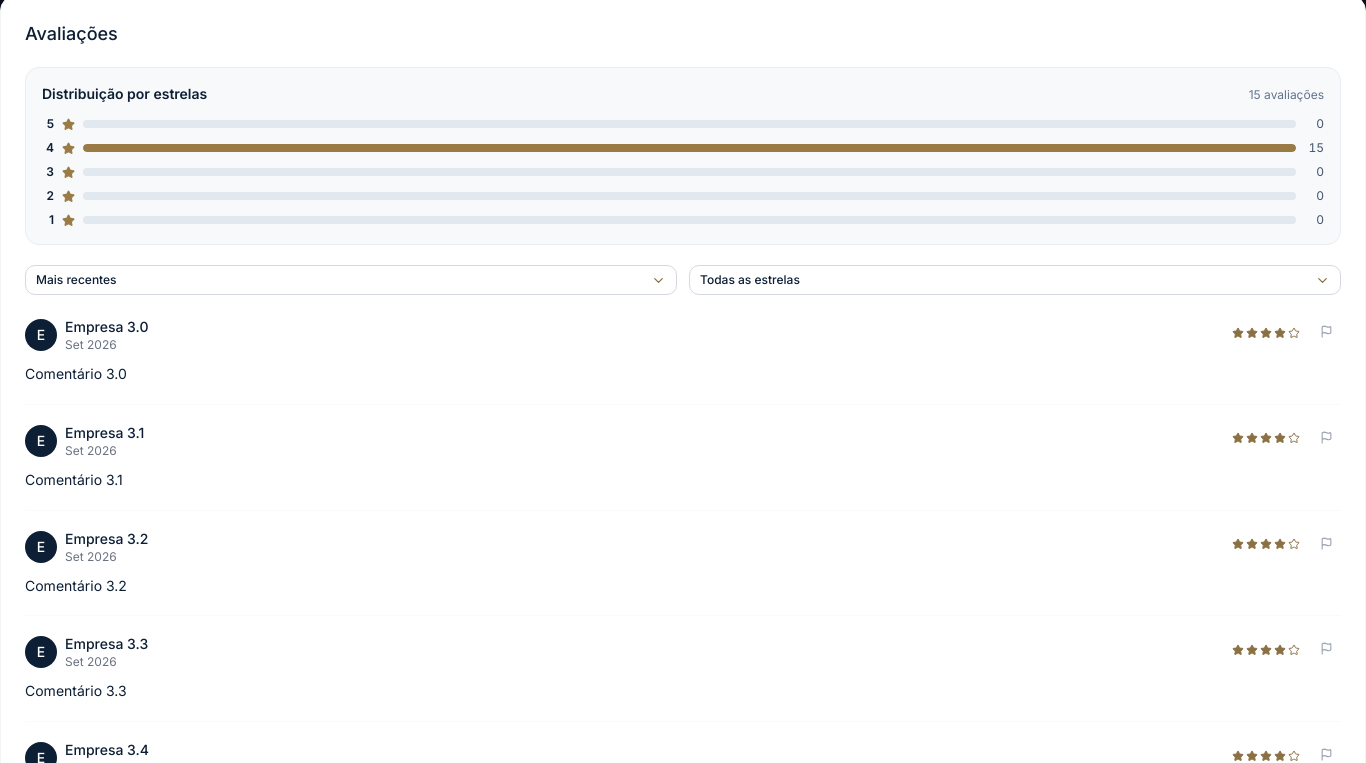
Scenario: Avaliações do perfil público: filtros e página no endereço › mudar um filtro escreve-o no endereço e volta à página 1
Expected: the text "Empresa 3.0" is shown, 65,317 -> 148,337
Click the dropdown named "Ordenar avaliações" at [76, 280], box 25,265 -> 677,295
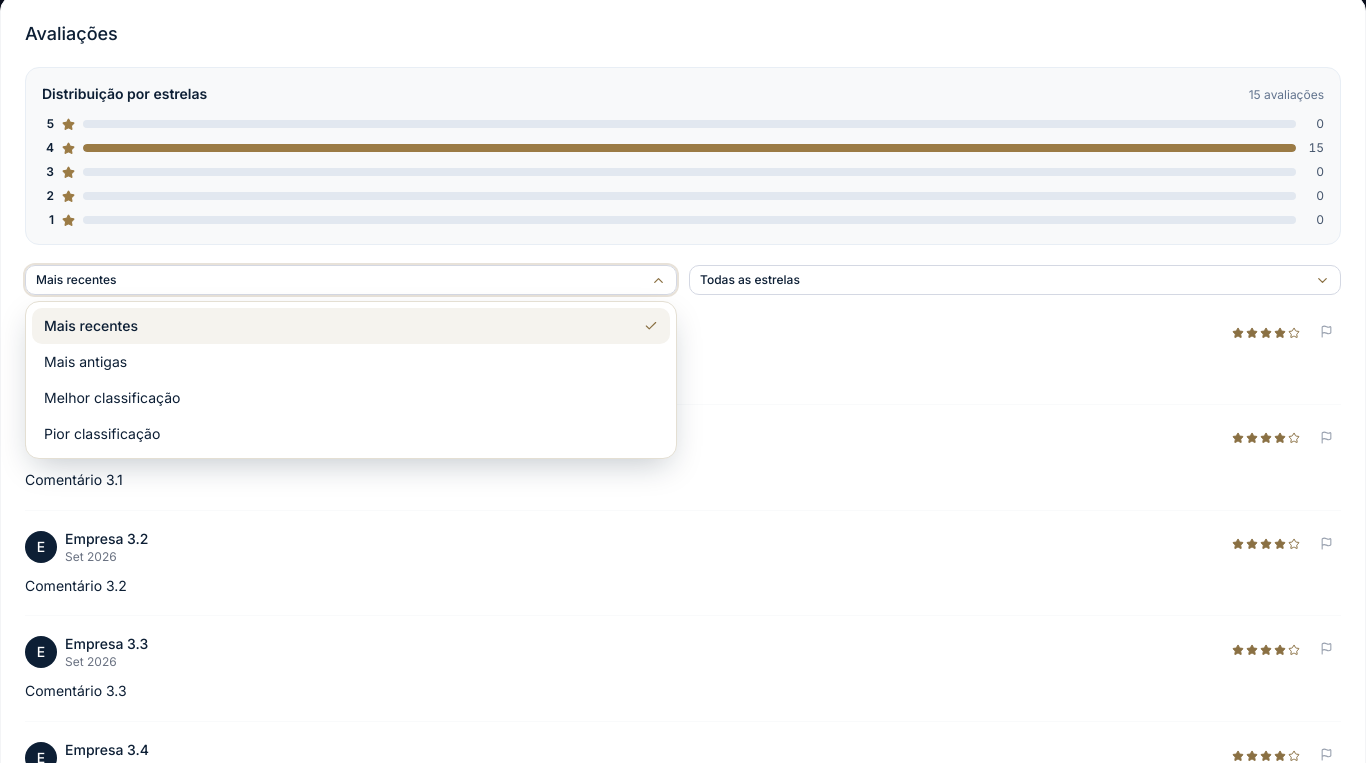
Click the option "Mais antigas" at [86, 362], box 44,353 -> 127,370
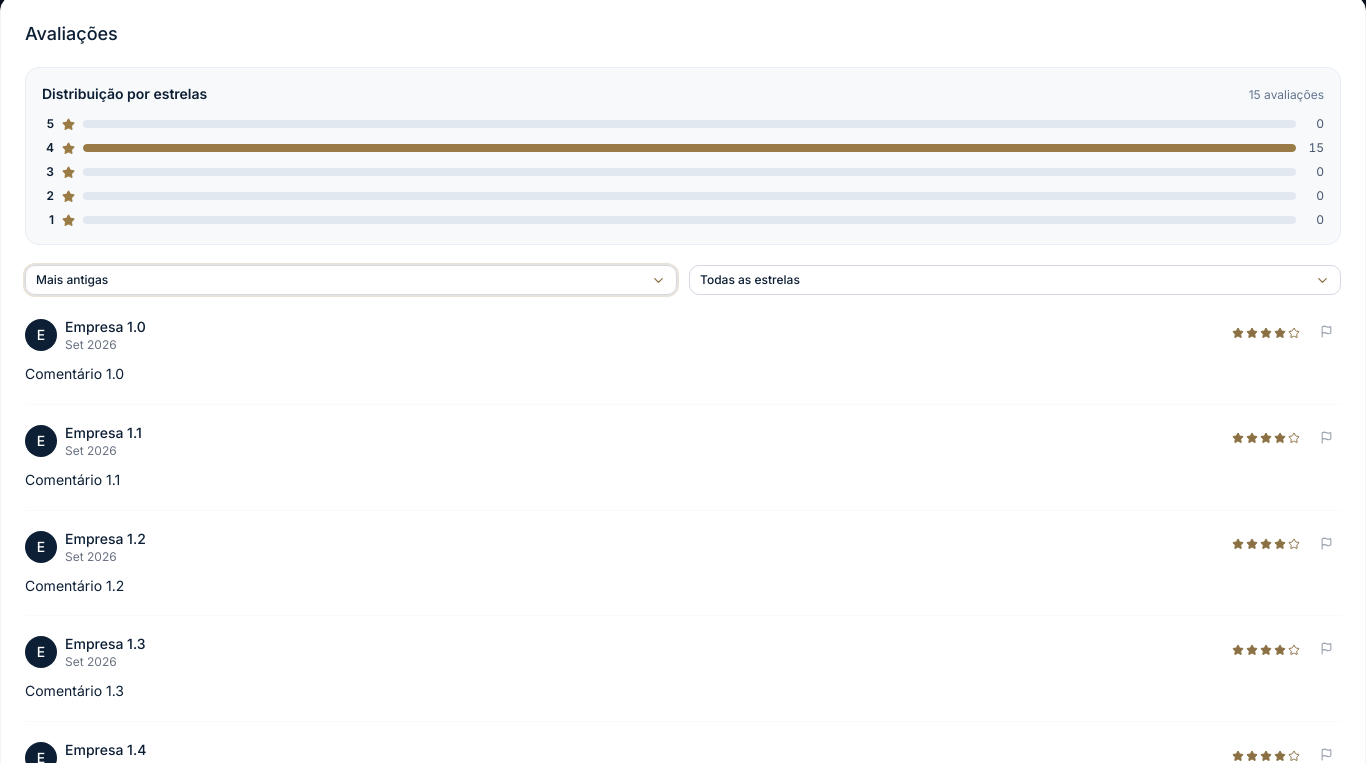
Click the dropdown named "Filtrar por estrelas" at [750, 280], box 689,265 -> 1341,295
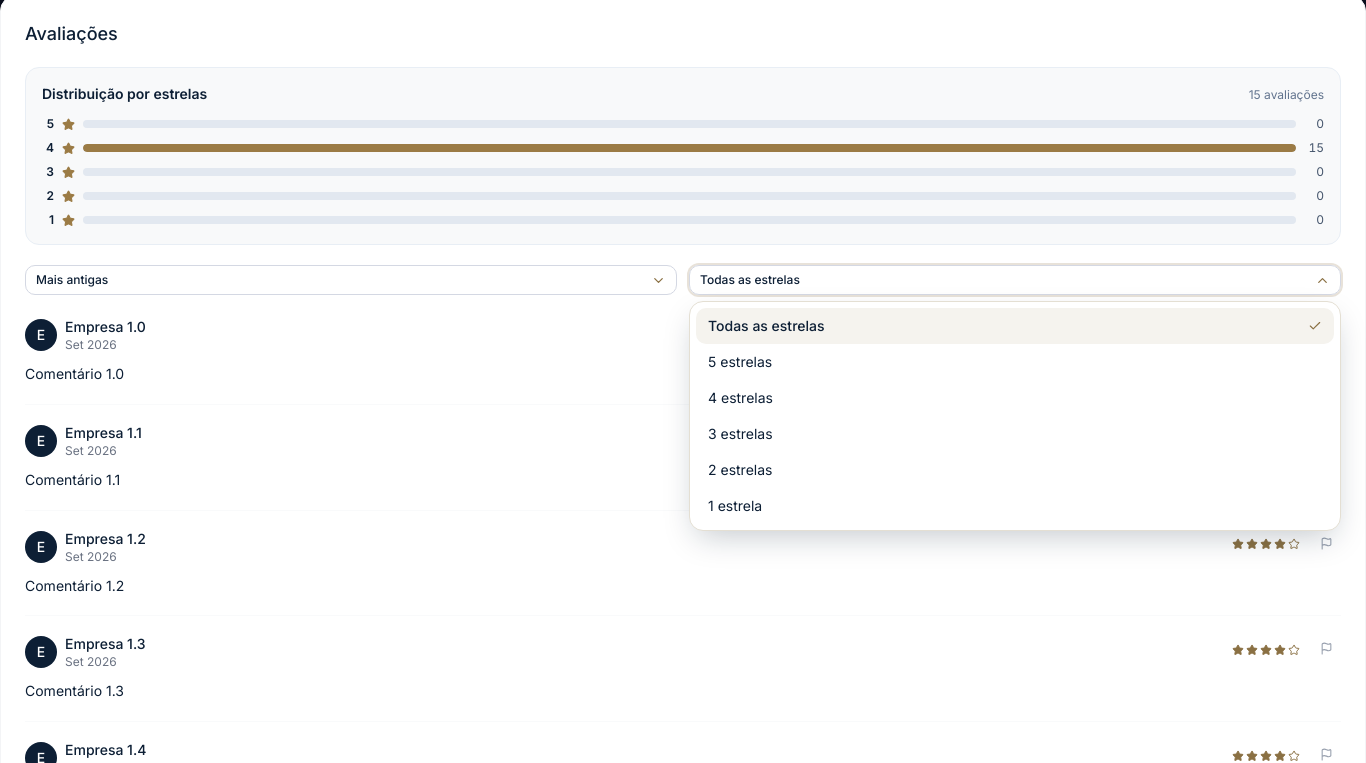
Click the option "5 estrelas" at [740, 362], box 708,353 -> 772,370
(page scrolled)
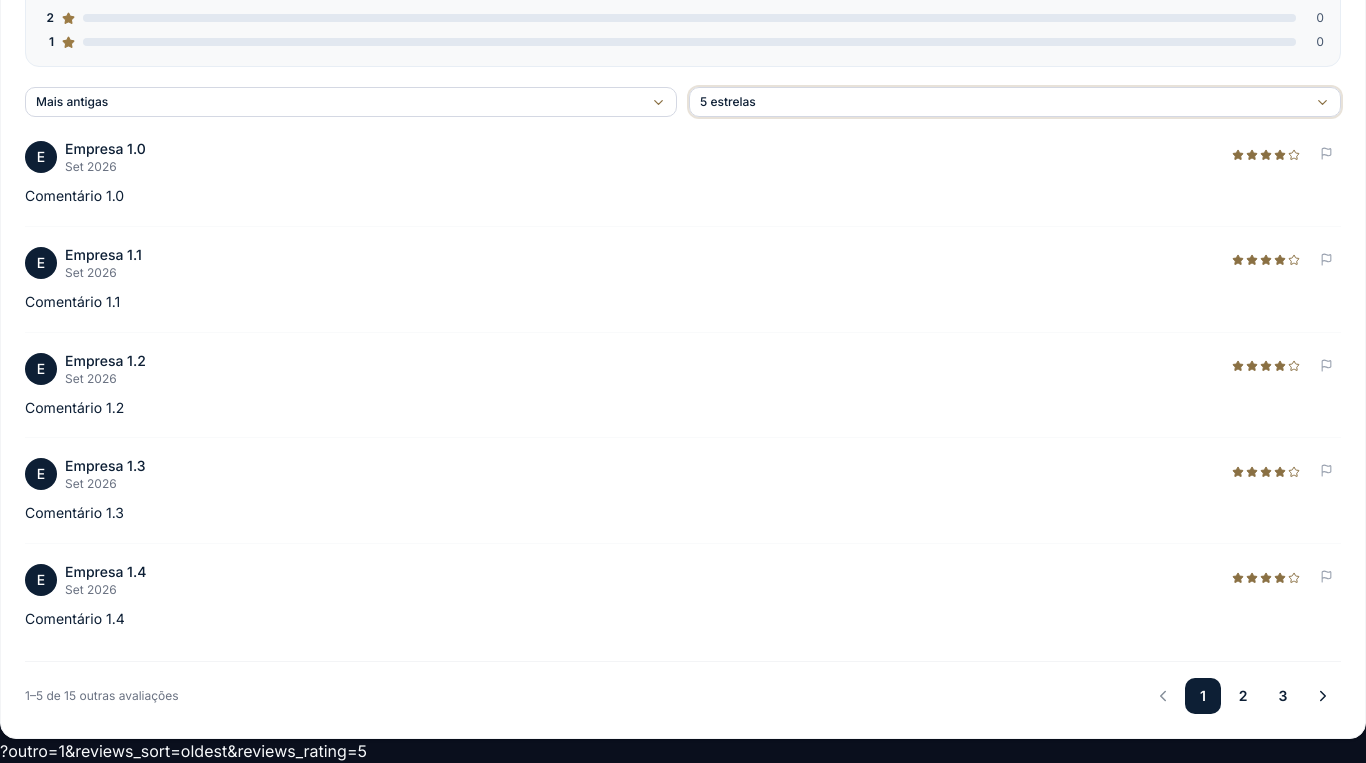
Expected: the text with test id "location" reads "?outro=1&reviews_sort=oldest&reviews_rating=5", 0,741 -> 367,761
